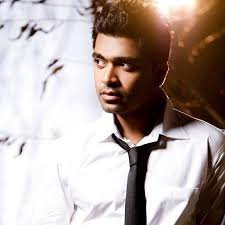noMask: (81, 6, 174, 120)
